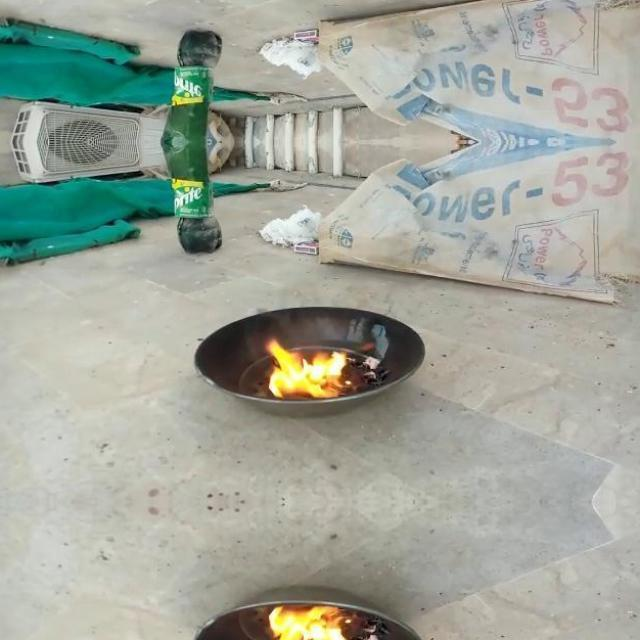smoke: (266, 334, 354, 401), (265, 603, 354, 640)
